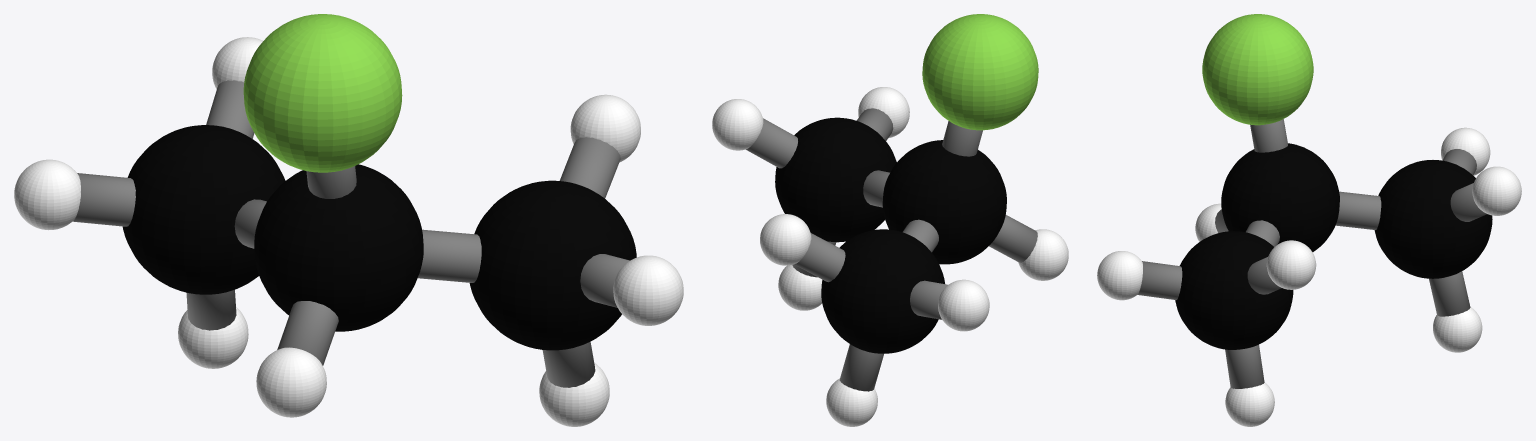
File: FLUORURO DE ISOPROPILO.obj
3 renders of one model, left to right at view 1: azimuth 30°, elevation 25°; view 2: azimuth 150°, elevation 25°; view 3: azimuth 270°, elevation 25°, orthographic. The views are drawn at different scales.
Parts seen in each view (by area): view 1: Carbon_ball_Sphere.002, Hydrogen_ball_Sphere, Fluorine_ball_Sphere.001, Stick_Cylinder.008_Cylinder.008, Stick_Cylinder_Cylinder, Stick_Cylinder.005_Cylinder.005, Stick_Cylinder.002_Cylinder.002, Stick_Cylinder.001_Cylinder.001, Stick_Cylinder.006_Cylinder.006, Stick_Cylinder.004_Cylinder.004, Stick_Cylinder.009_Cylinder.009, Stick_Cylinder.003_Cylinder.003 (+1 smaller); view 2: Carbon_ball_Sphere.002, Hydrogen_ball_Sphere, Fluorine_ball_Sphere.001, Stick_Cylinder.002_Cylinder.002, Stick_Cylinder.004_Cylinder.004, Stick_Cylinder.006_Cylinder.006, Stick_Cylinder.005_Cylinder.005, Stick_Cylinder_Cylinder, Stick_Cylinder.003_Cylinder.003, Stick_Cylinder.008_Cylinder.008, Stick_Cylinder.009_Cylinder.009, Stick_Cylinder.007_Cylinder.007; view 3: Carbon_ball_Sphere.002, Hydrogen_ball_Sphere, Fluorine_ball_Sphere.001, Stick_Cylinder.007_Cylinder.007, Stick_Cylinder.009_Cylinder.009, Stick_Cylinder.001_Cylinder.001, Stick_Cylinder.004_Cylinder.004, Stick_Cylinder.003_Cylinder.003, Stick_Cylinder.006_Cylinder.006, Stick_Cylinder.002_Cylinder.002, Stick_Cylinder.008_Cylinder.008, Stick_Cylinder_Cylinder.
Part boxes in pixels (x1,y1,x2,y2): Carbon_ball_Sphere.002: [122, 125, 636, 350]; Hydrogen_ball_Sphere: [14, 37, 683, 426]; Fluorine_ball_Sphere.001: [243, 14, 402, 172]; Stick_Cylinder.008_Cylinder.008: [417, 229, 481, 282]; Stick_Cylinder_Cylinder: [73, 173, 135, 226]; Stick_Cylinder.005_Cylinder.005: [277, 301, 338, 365]; Stick_Cylinder.002_Cylinder.002: [559, 137, 620, 198]; Stick_Cylinder.001_Cylinder.001: [542, 341, 595, 387]; Stick_Cylinder.006_Cylinder.006: [206, 80, 254, 138]; Stick_Cylinder.004_Cylinder.004: [186, 289, 236, 330]; Stick_Cylinder.009_Cylinder.009: [580, 254, 629, 307]; Stick_Cylinder.003_Cylinder.003: [306, 166, 356, 198]; Carbon_ball_Sphere.002: [775, 117, 1006, 353]; Hydrogen_ball_Sphere: [712, 87, 1068, 426]; Fluorine_ball_Sphere.001: [922, 14, 1038, 130]; Stick_Cylinder.002_Cylinder.002: [746, 118, 797, 168]; Stick_Cylinder.004_Cylinder.004: [839, 344, 883, 391]; Stick_Cylinder.006_Cylinder.006: [794, 233, 845, 282]; Stick_Cylinder.005_Cylinder.005: [989, 215, 1037, 262]; Stick_Cylinder_Cylinder: [910, 280, 947, 319]; Stick_Cylinder.003_Cylinder.003: [942, 121, 982, 156]; Stick_Cylinder.008_Cylinder.008: [863, 170, 889, 207]; Stick_Cylinder.009_Cylinder.009: [856, 108, 893, 140]; Stick_Cylinder.007_Cylinder.007: [902, 219, 938, 252]; Carbon_ball_Sphere.002: [1175, 143, 1492, 349]; Hydrogen_ball_Sphere: [1097, 127, 1521, 426]; Fluorine_ball_Sphere.001: [1202, 14, 1313, 125]; Stick_Cylinder.007_Cylinder.007: [1335, 191, 1381, 229]; Stick_Cylinder.009_Cylinder.009: [1137, 261, 1182, 299]; Stick_Cylinder.001_Cylinder.001: [1225, 344, 1264, 388]; Stick_Cylinder.004_Cylinder.004: [1429, 271, 1470, 316]; Stick_Cylinder.003_Cylinder.003: [1250, 119, 1287, 152]; Stick_Cylinder.006_Cylinder.006: [1450, 183, 1486, 221]; Stick_Cylinder.002_Cylinder.002: [1247, 257, 1281, 294]; Stick_Cylinder.008_Cylinder.008: [1246, 220, 1279, 246]; Stick_Cylinder_Cylinder: [1442, 149, 1476, 175].
Bounding box in the file's own units: 4.65 × 4.12 × 4.94.
